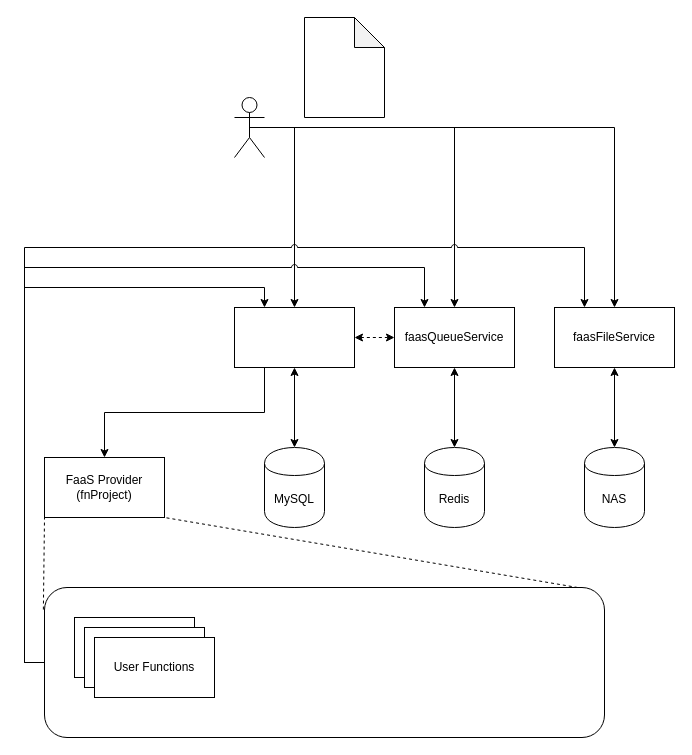
This 692x755 diagram has some shape labels left out. The shapes that lost their labels are listed below. From the top down, each one's centre as x and y in pixels, then its label:
At [344,67]: "mds-cli mds-sdk-*".
At [249,127]: "Actor".
At [294,337]: "faasStateMachine".
